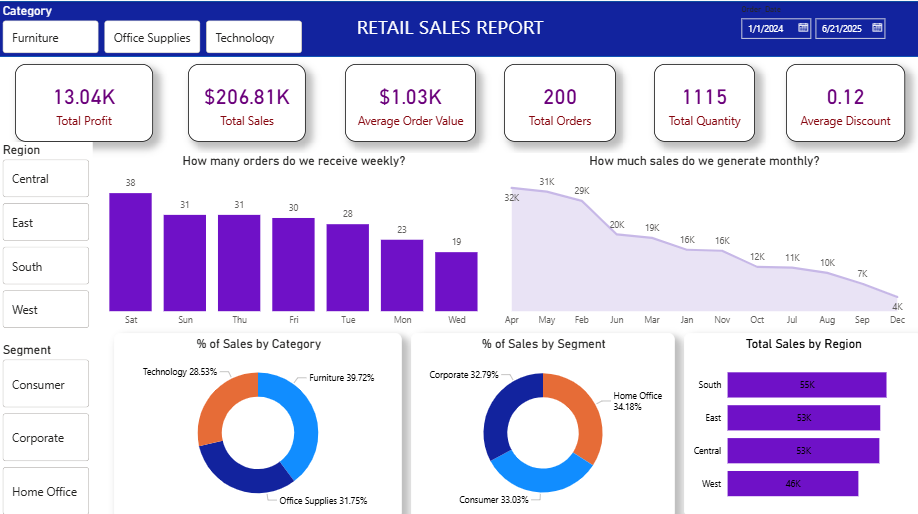

Layout of this report page (visuals, bound fields, positions):
{"tool":"powerbi","page":{"name":"Page 1","canvas":[1280,720],"ordinal":0},"visuals":[{"type":"shape","box":[0,0,1280,77.1],"z":0},{"type":"textbox","box":[487.2,11,284.9,53.7],"z":1000},{"type":"card","fields":{"Values":["Sum(Retail_Sales_Analysis_Dataset.Sales)"]},"box":[260.1,86.7,162.4,107.4],"z":2000},{"type":"card","fields":{"Values":["Retail_Sales_Analysis_Dataset.Average Order Value"]},"box":[476.2,86.7,180.3,107.4],"z":3000},{"type":"card","fields":{"Values":["Retail_Sales_Analysis_Dataset.Total Orders"]},"box":[695.1,86.7,154.2,107.4],"z":4000},{"type":"card","fields":{"Values":["Sum(Retail_Sales_Analysis_Dataset.Quantity)"]},"box":[901.5,86.7,139,107.4],"z":5000},{"type":"card","fields":{"Values":["Avg(Retail_Sales_Analysis_Dataset.Discount)"]},"box":[1083.2,86.7,163.8,107.4],"z":6000},{"type":"slicer","fields":{"Values":["Retail_Sales_Analysis_Dataset.Order_Date"]},"box":[1008.9,0,228.5,77.1],"z":7000},{"type":"advancedSlicerVisual","fields":{"Values":["Retail_Sales_Analysis_Dataset.Category"]},"box":[0,2.8,422.5,74.3],"z":8000},{"type":"clusteredColumnChart","title":"How many orders do we receive weekly?","fields":{"Category":["Retail_Sales_Analysis_Dataset.Day"],"Y":["Retail_Sales_Analysis_Dataset.Total Orders"]},"box":[117,209.2,578.1,247.7],"z":9000},{"type":"areaChart","title":"How much sales do we generate monthly?","fields":{"Category":["Retail_Sales_Analysis_Dataset.Month"],"Y":["Sum(Retail_Sales_Analysis_Dataset.Sales)"]},"box":[681.3,209.2,579.4,247.7],"z":10000},{"type":"donutChart","title":"% of Sales by Category","fields":{"Category":["Retail_Sales_Analysis_Dataset.Category"],"Y":["Sum(Retail_Sales_Analysis_Dataset.Sales)"]},"box":[158.3,456.9,396.4,256],"z":11000},{"type":"donutChart","title":"% of Sales by Segment","fields":{"Category":["Retail_Sales_Analysis_Dataset.Segment"],"Y":["Sum(Retail_Sales_Analysis_Dataset.Sales)"]},"box":[567.1,456.9,363.4,256],"z":12000},{"type":"clusteredBarChart","title":"Total Sales by Region","fields":{"Category":["Retail_Sales_Analysis_Dataset.Region"],"Y":["Sum(Retail_Sales_Analysis_Dataset.Sales)"]},"box":[942.8,456.9,327.6,253.2],"z":13000},{"type":"card","fields":{"Values":["Sum(Retail_Sales_Analysis_Dataset.Profit)"]},"box":[22,86.7,189.9,107.4],"z":14000},{"type":"advancedSlicerVisual","fields":{"Values":["Retail_Sales_Analysis_Dataset.Segment"]},"box":[0,469.3,129.4,243.6],"z":15000},{"type":"advancedSlicerVisual","fields":{"Values":["Retail_Sales_Analysis_Dataset.Region"]},"box":[0,194.1,129.4,262.9],"z":16000}]}

Visuals, with their boxes in screenshot pixels (x1, y1, x2, y2), scaled from the page's 1280x720 canvas onto the 918x514 screenshot:
shape: region(0, 0, 917, 55)
textbox: region(349, 8, 554, 46)
card - Sum(Retail_Sales_Analysis_Dataset.Sales): region(187, 62, 303, 139)
card - Retail_Sales_Analysis_Dataset.Average Order Value: region(342, 62, 471, 139)
card - Retail_Sales_Analysis_Dataset.Total Orders: region(499, 62, 609, 139)
card - Sum(Retail_Sales_Analysis_Dataset.Quantity): region(647, 62, 746, 139)
card - Avg(Retail_Sales_Analysis_Dataset.Discount): region(777, 62, 894, 139)
slicer - Retail_Sales_Analysis_Dataset.Order_Date: region(724, 0, 887, 55)
advancedSlicerVisual - Retail_Sales_Analysis_Dataset.Category: region(0, 2, 303, 55)
"How many orders do we receive weekly?" clusteredColumnChart: region(84, 149, 499, 326)
"How much sales do we generate monthly?" areaChart: region(489, 149, 904, 326)
"% of Sales by Category" donutChart: region(114, 326, 398, 509)
"% of Sales by Segment" donutChart: region(407, 326, 667, 509)
"Total Sales by Region" clusteredBarChart: region(676, 326, 911, 507)
card - Sum(Retail_Sales_Analysis_Dataset.Profit): region(16, 62, 152, 139)
advancedSlicerVisual - Retail_Sales_Analysis_Dataset.Segment: region(0, 335, 93, 509)
advancedSlicerVisual - Retail_Sales_Analysis_Dataset.Region: region(0, 139, 93, 326)
